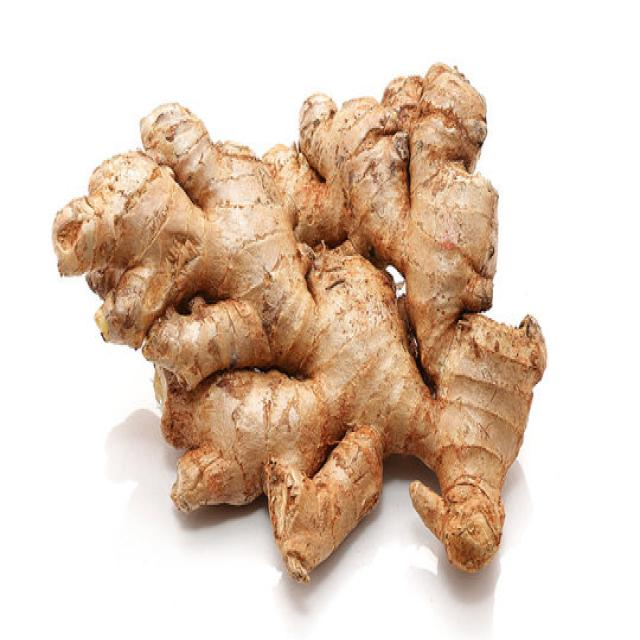Ginger: (51, 61, 548, 583)
